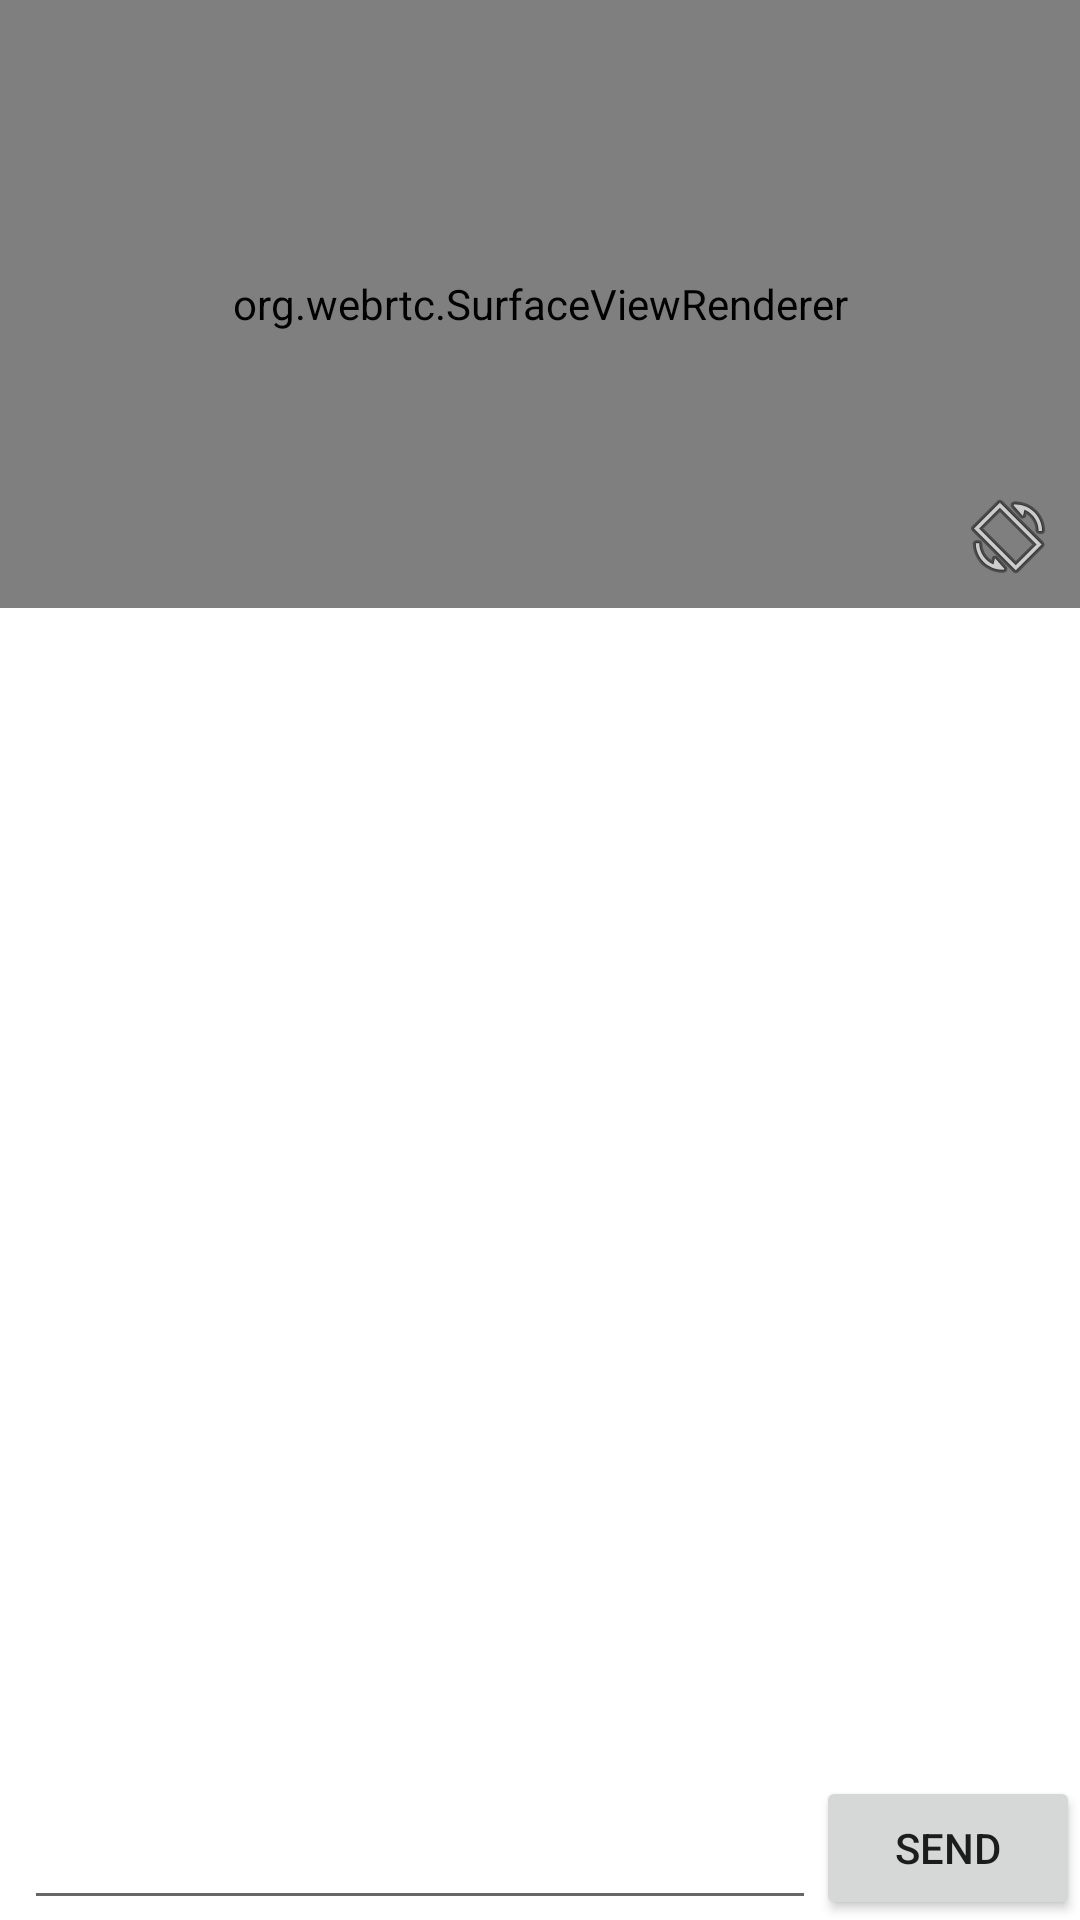

Icon bounding boxes for this 1080 x 1920 phone screenshot, format {"left": x1, "top": y1, "right": x2, "bottom": y2}:
always landscape portrait: {"left": 971, "top": 500, "right": 1045, "bottom": 573}
